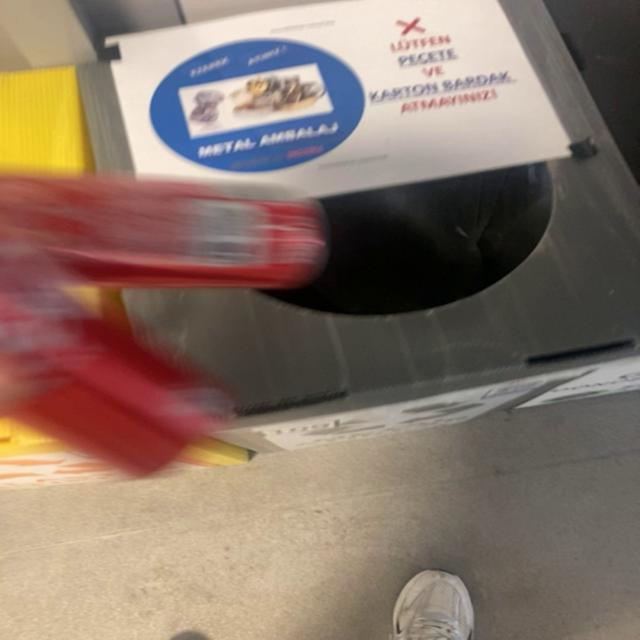Bin: (123, 0, 639, 428), (76, 60, 169, 175)
Metal: (0, 175, 325, 476)
